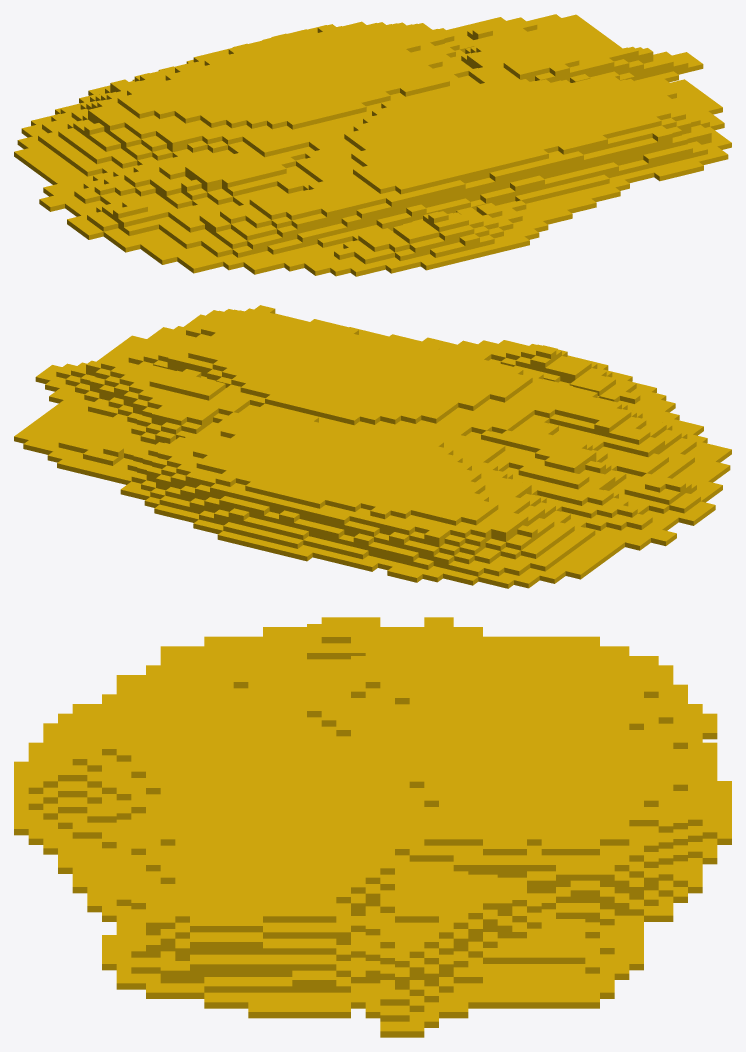
The model's file is sable_chunk.fbx.
The picture shows the model from 3 angles, top to bottom: view 1: azimuth 30°, elevation 25°; view 2: azimuth 150°, elevation 25°; view 3: azimuth 270°, elevation 25°; orthographic projection. The views are drawn at different scales.
Visible parts, largest first — view 1: Landscape.001; view 2: Landscape.001; view 3: Landscape.001.
Part boxes in pixels (x1,y1,x2,y2): Landscape.001: (14, 14, 731, 276); Landscape.001: (14, 305, 731, 588); Landscape.001: (14, 617, 731, 1037).
Size of the model in its own units: 6188 by 309 by 4536.
